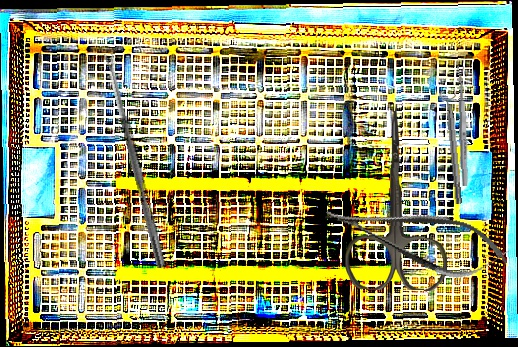Fixation Ring: (439, 89, 467, 205)
Iris Scissors: (343, 103, 450, 291)
Micro Scissor: (318, 184, 515, 291)
Surgical Spoon: (103, 51, 168, 269), (456, 65, 470, 187)
